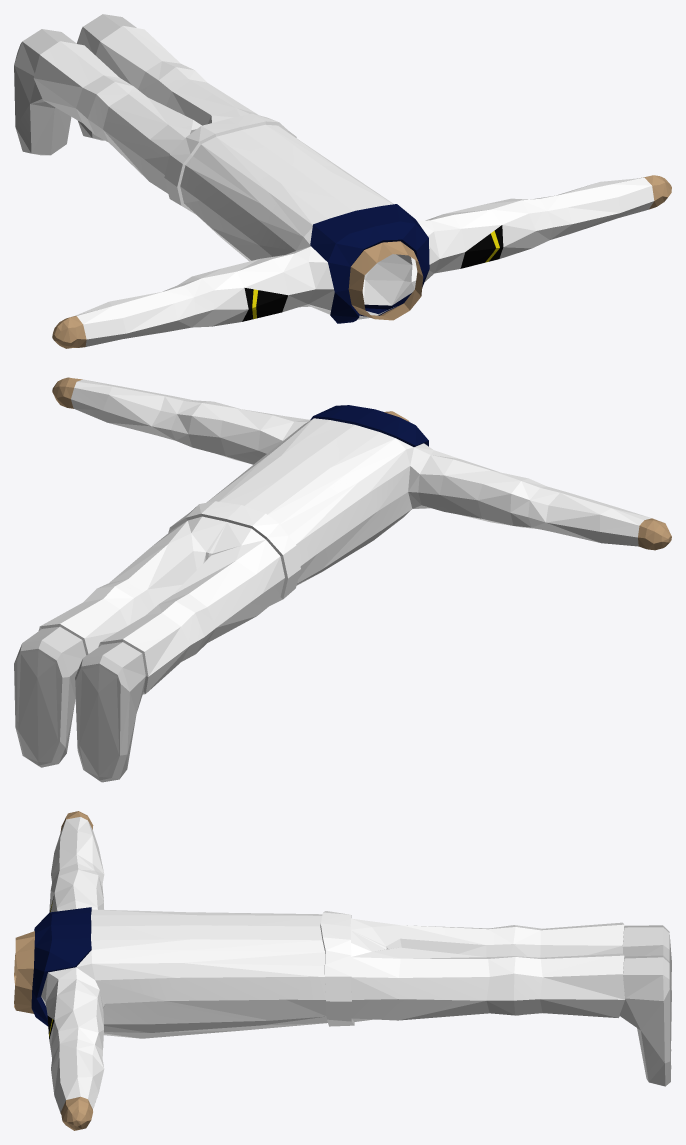
The model's file is Sailor.glb.
3 views of the same model, one above another, from view 1: azimuth 30°, elevation 25°; view 2: azimuth 150°, elevation 25°; view 3: azimuth 270°, elevation 25° (orthographic).
Parts seen in each view (by area): view 1: Sailor; view 2: Sailor; view 3: Sailor.
Boxes of the visible parts, <box> form: Sailor: <box>14,14,671,348</box>; Sailor: <box>14,377,671,782</box>; Sailor: <box>14,811,671,1130</box>.
Bounding box in the file's own units: 1.21 × 0.2737 × 1.11.
Materials: 1 (1 with a texture image).
